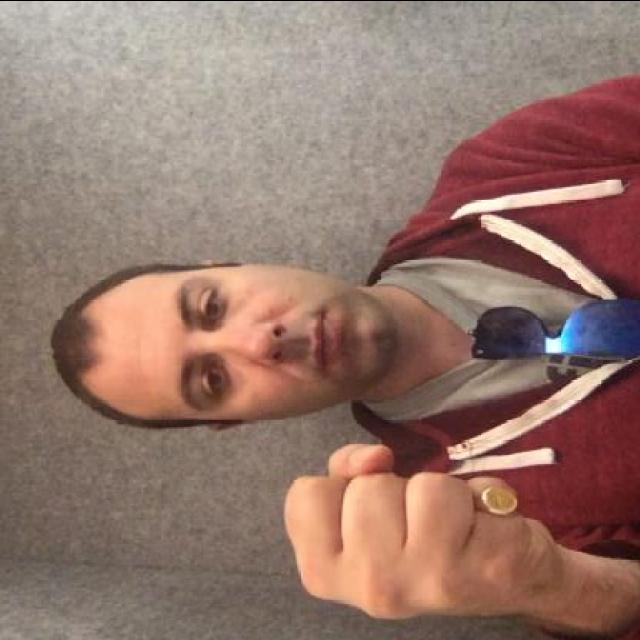Rock: (277, 436, 565, 624)
